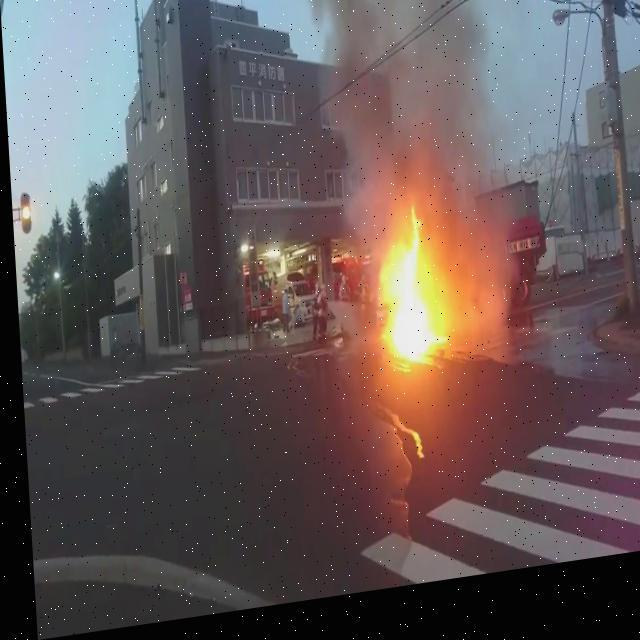Fire: (367, 221, 441, 376)
